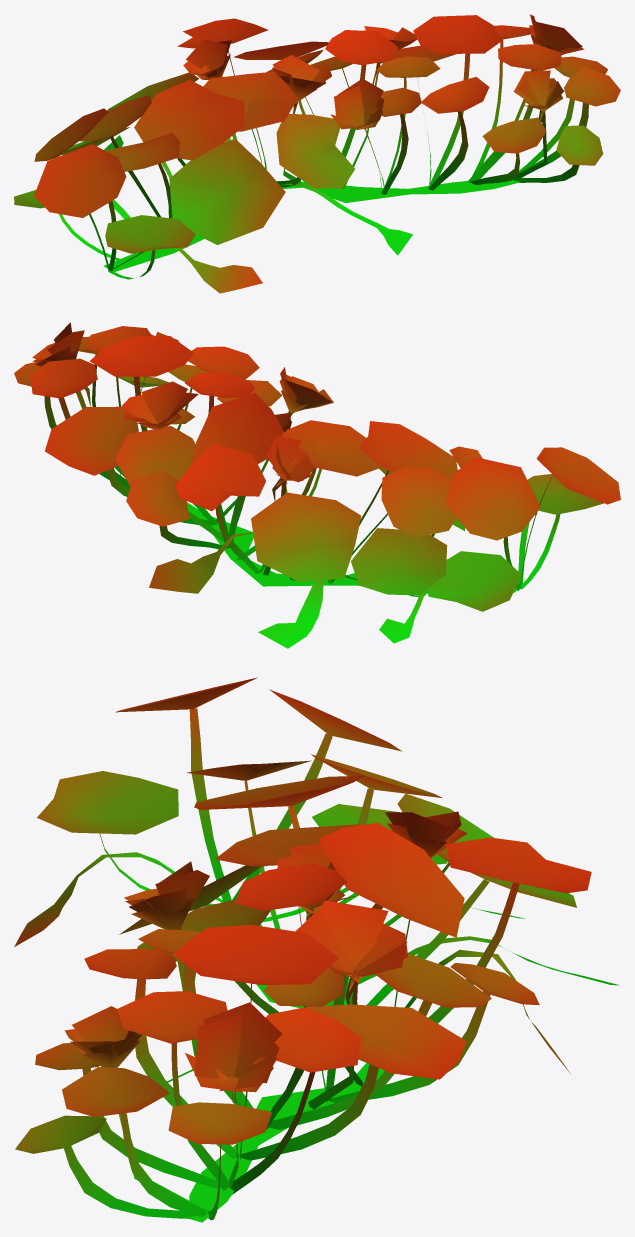
Rendered from Var3_LOD0.fbx.
3 renders of one model, top to bottom at view 1: azimuth 30°, elevation 25°; view 2: azimuth 150°, elevation 25°; view 3: azimuth 270°, elevation 25°, orthographic. The views are drawn at different scales.
Parts seen in each view (by area): view 1: _2ccc_Var3_LOD0; view 2: _2ccc_Var3_LOD0; view 3: _2ccc_Var3_LOD0.
Boxes of the visible parts, bbox=[...] form: _2ccc_Var3_LOD0: bbox=[14, 14, 620, 293]; _2ccc_Var3_LOD0: bbox=[14, 322, 620, 648]; _2ccc_Var3_LOD0: bbox=[14, 677, 619, 1222].
Bounding box in the file's own units: 59.12 × 16.31 × 34.08.
